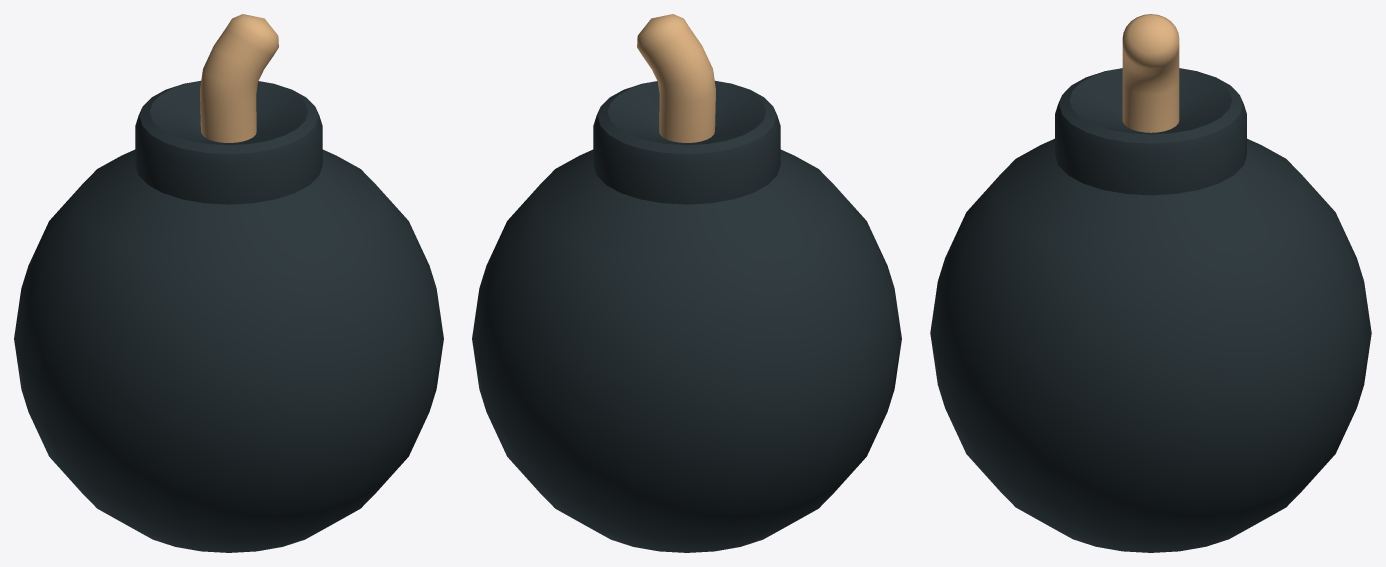
The model's file is powerupBomb-col.glb.
3 renders of one model, left to right at view 1: azimuth 30°, elevation 25°; view 2: azimuth 150°, elevation 25°; view 3: azimuth 270°, elevation 25°, orthographic. The views are drawn at different scales.
Visible parts, largest first — view 1: powerupBomb-col; view 2: powerupBomb-col; view 3: powerupBomb-col.
Boxes of the visible parts, x1,y1,x2,y2 form: powerupBomb-col: (14,14,443,552); powerupBomb-col: (472,14,901,552); powerupBomb-col: (930,14,1371,552).
Size of the model in its own units: 1 by 1.31 by 1.
